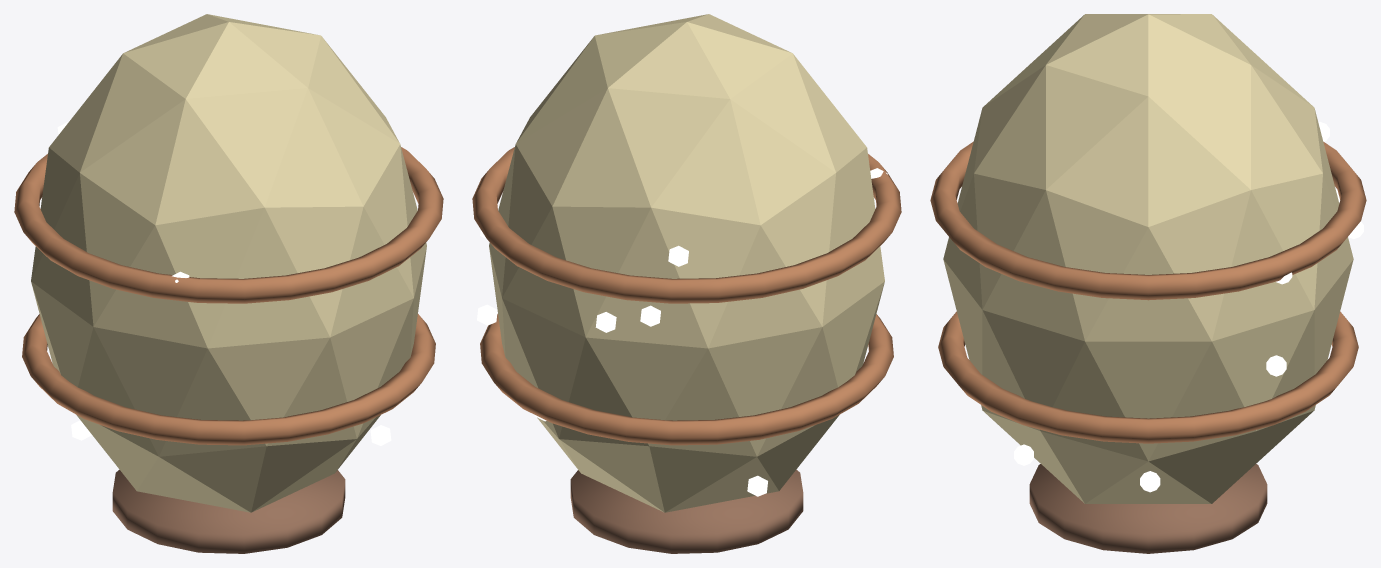
File: egg_desert_04.glb
The picture shows the model from 3 angles, left to right: view 1: azimuth 30°, elevation 25°; view 2: azimuth 150°, elevation 25°; view 3: azimuth 270°, elevation 25°; orthographic projection.
Visible parts, largest first — view 1: ico; view 2: ico; view 3: ico.
Boxes of the visible parts, bbox=[...] form: ico: bbox=[14, 14, 443, 553]; ico: bbox=[472, 14, 901, 553]; ico: bbox=[930, 14, 1366, 553].
Size of the model in its own units: 0.8078 by 1 by 0.8078.
